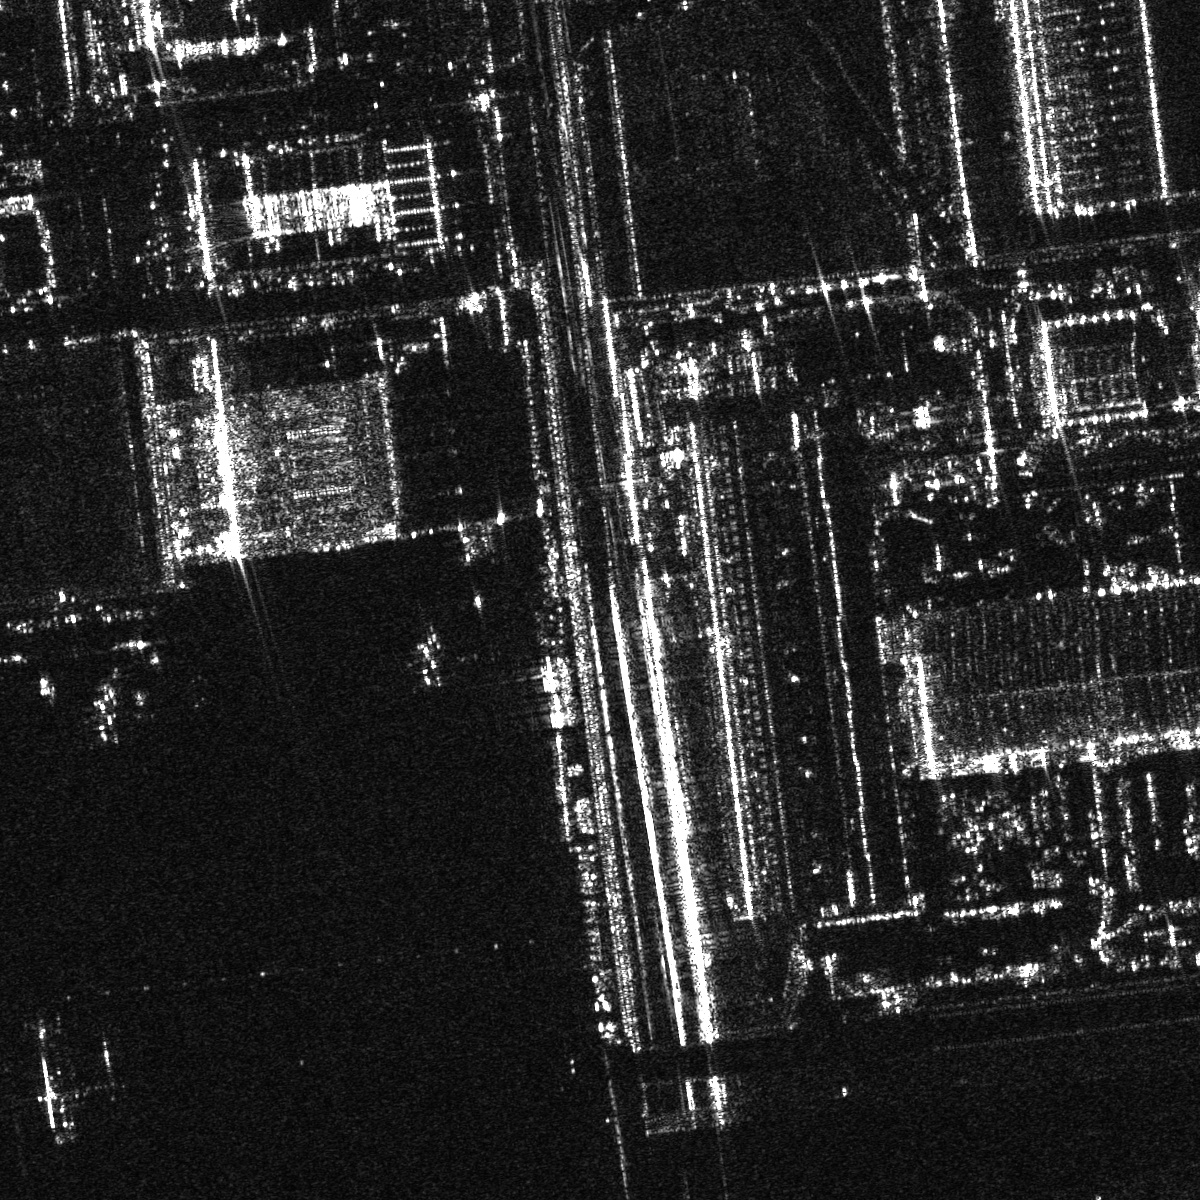A220: (65, 666, 148, 745)
A320/321: (398, 629, 464, 693)
